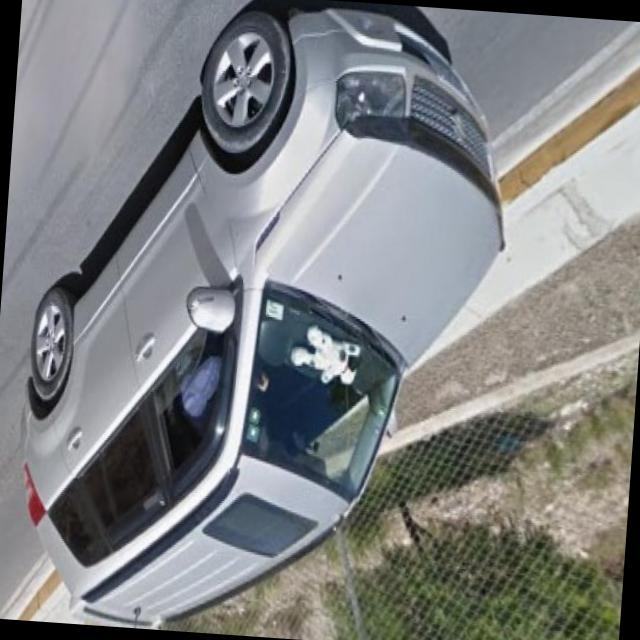car: (6, 0, 519, 640)
